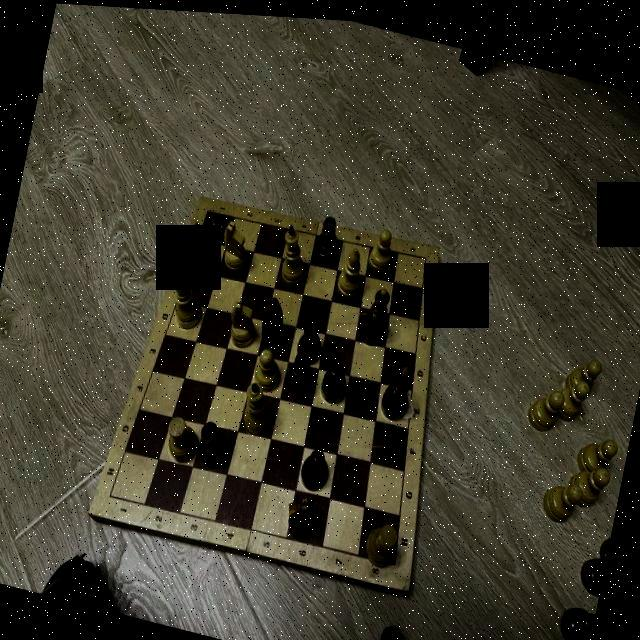chess-table-corners: (105, 491, 114, 499), (422, 250, 430, 258), (392, 556, 398, 564), (206, 205, 210, 213)
